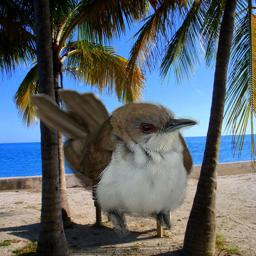Cuckoo: (29, 88, 200, 240)
